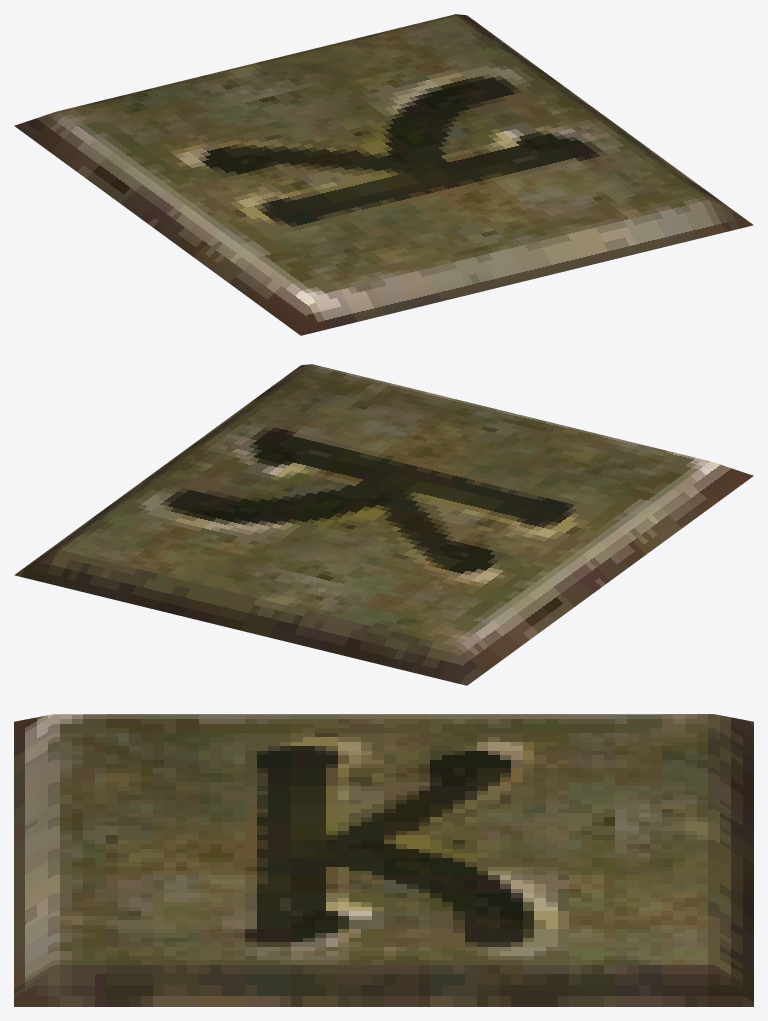
Rendered from EREBOR_RUNE_PZL_EREBOR_PZL_TILE_STATIC57.fbx.
The picture shows the model from 3 angles, top to bottom: view 1: azimuth 30°, elevation 25°; view 2: azimuth 150°, elevation 25°; view 3: azimuth 270°, elevation 25°; orthographic projection. The views are drawn at different scales.
Parts seen in each view (by area): view 1: EREBOR_RUNE_PZL_EREBOR_PZL_TILE_STATIC57; view 2: EREBOR_RUNE_PZL_EREBOR_PZL_TILE_STATIC57; view 3: EREBOR_RUNE_PZL_EREBOR_PZL_TILE_STATIC57.
Boxes of the visible parts, <box> form: EREBOR_RUNE_PZL_EREBOR_PZL_TILE_STATIC57: <box>14,14,753,335</box>; EREBOR_RUNE_PZL_EREBOR_PZL_TILE_STATIC57: <box>14,364,753,685</box>; EREBOR_RUNE_PZL_EREBOR_PZL_TILE_STATIC57: <box>14,714,753,1006</box>.
Size of the model in its own units: 9203 by 370 by 10093.
Materials: 1 (1 with a texture image).
